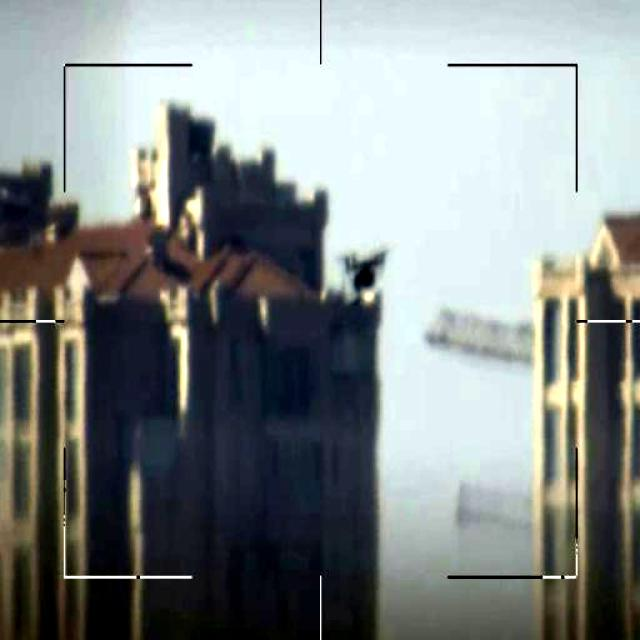bird: (339, 242, 386, 299)
